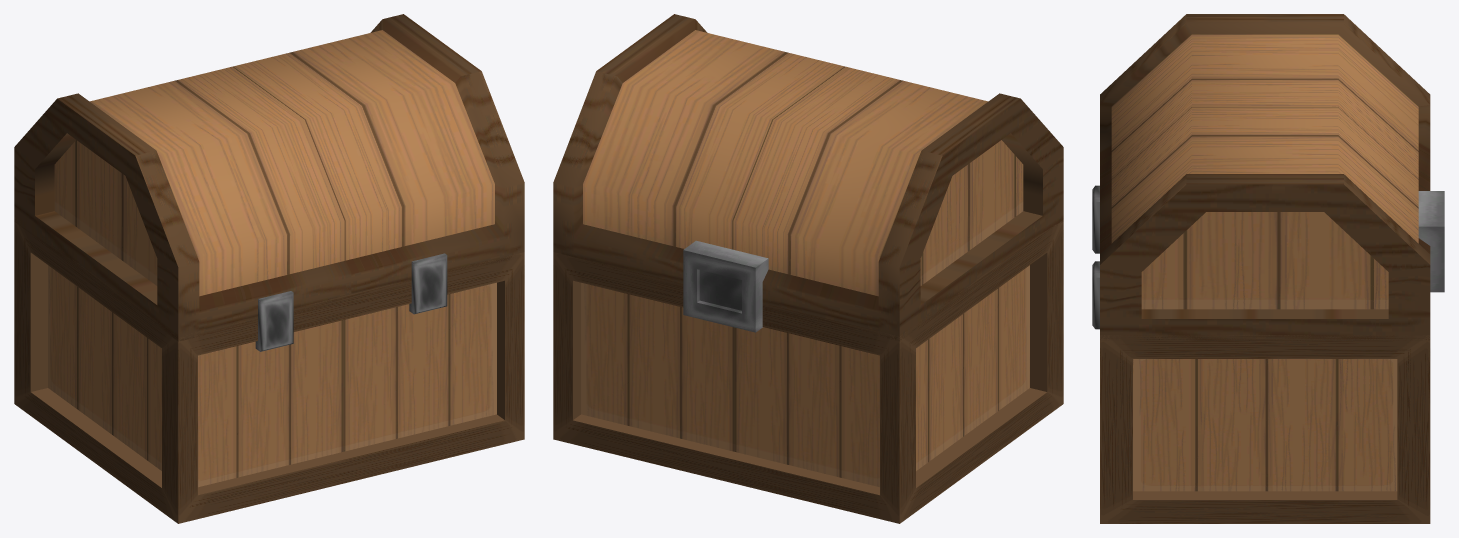
The model's file is Chest.fbx.
3 renders of one model, left to right at view 1: azimuth 30°, elevation 25°; view 2: azimuth 150°, elevation 25°; view 3: azimuth 270°, elevation 25°, orthographic.
Visible parts, largest first — view 1: Lid, Crate; view 2: Lid, Crate; view 3: Lid, Crate.
Part boxes in pixels (x1=…): Lid: x1=14, y1=14, x2=524, y2=341; Crate: x1=14, y1=217, x2=524, y2=523; Lid: x1=553, y1=14, x2=1063, y2=341; Crate: x1=553, y1=220, x2=1063, y2=523; Lid: x1=1100, y1=14, x2=1444, y2=340; Crate: x1=1092, y1=185, x2=1430, y2=523.
Size of the model in its own units: 1.6 by 1.48 by 1.4.
Materials: 2 (2 with a texture image).
